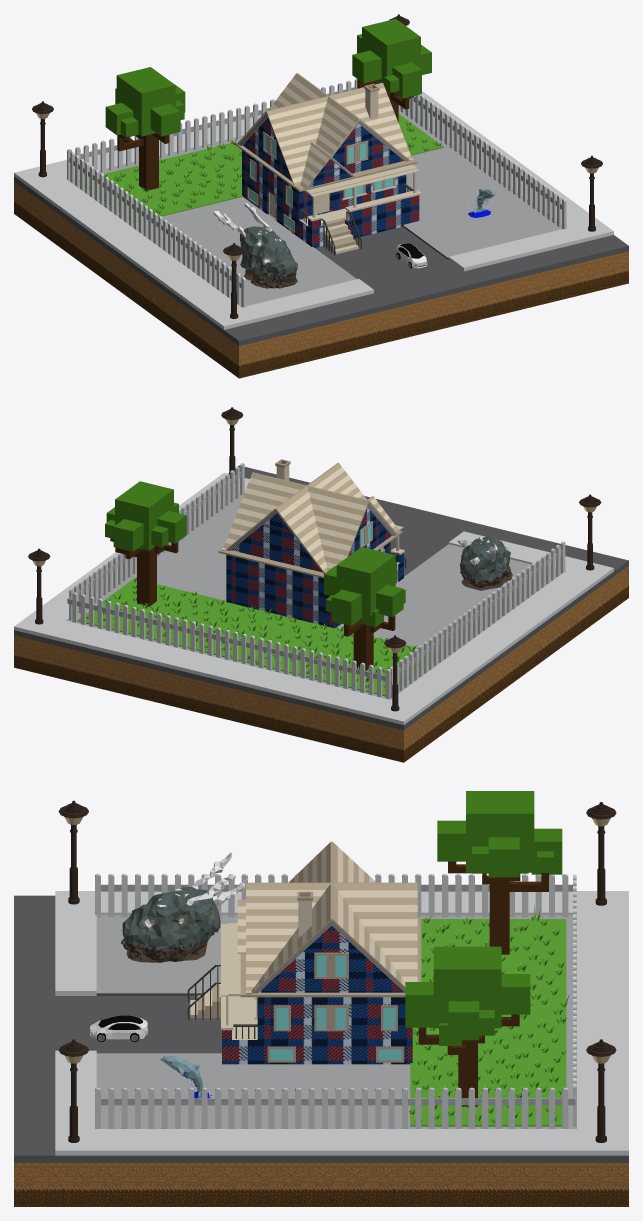
The picture shows the model from 3 angles, top to bottom: view 1: azimuth 30°, elevation 25°; view 2: azimuth 150°, elevation 25°; view 3: azimuth 270°, elevation 25°; orthographic projection. The views are drawn at different scales.
Parts seen in each view (by area): view 1: Cube.004, Cube.171, OBJRANDOM_METEORITE, VEHICLES_TESLA; view 2: Cube.004, Cube.171, OBJRANDOM_METEORITE; view 3: Cube.004, Cube.171, OBJRANDOM_METEORITE, VEHICLES_TESLA, ANIMAL_DELFIN.
Part boxes in pixels (bbox=[...]): Cube.004: bbox=[14, 14, 628, 378]; Cube.171: bbox=[233, 73, 422, 255]; OBJRANDOM_METEORITE: bbox=[213, 203, 297, 288]; VEHICLES_TESLA: bbox=[396, 243, 427, 268]; Cube.004: bbox=[14, 407, 628, 762]; Cube.171: bbox=[218, 459, 406, 627]; OBJRANDOM_METEORITE: bbox=[457, 536, 512, 590]; Cube.004: bbox=[14, 791, 628, 1206]; Cube.171: bbox=[187, 841, 421, 1064]; OBJRANDOM_METEORITE: bbox=[121, 852, 248, 962]; VEHICLES_TESLA: bbox=[90, 1015, 148, 1041]; ANIMAL_DELFIN: bbox=[160, 1056, 211, 1105].
Size of the model in its own units: 4000 by 1604 by 4000.
30 materials, 4 textured.
